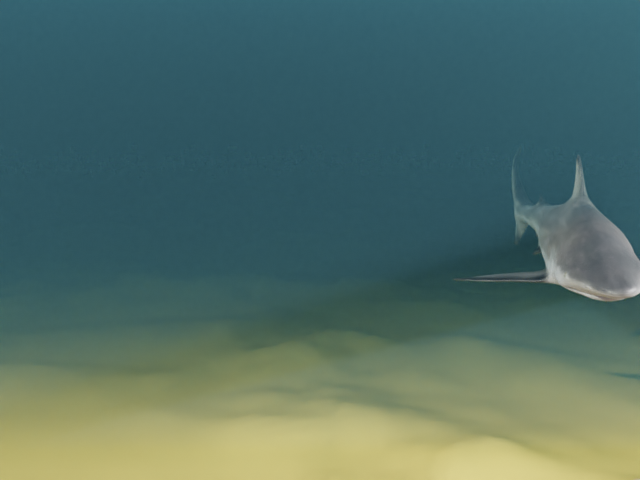Carribean Shark.001: (452, 146, 640, 301)
